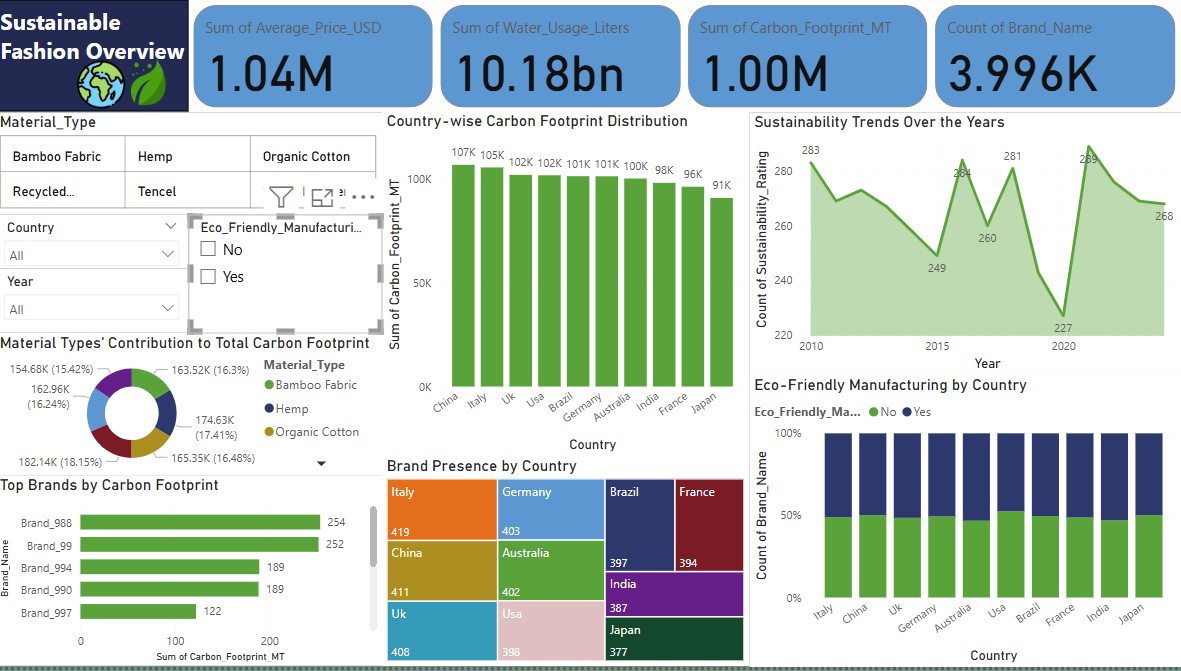

This screenshot's page, from the dashboard's own definition file:
{"tool":"powerbi","page":{"name":"Sustainable Fashion Overview","canvas":[1280,720],"ordinal":0},"visuals":[{"type":"cardVisual","fields":{"Data":["Sum(sustainable_fashion_trends_2024.Average_Price_USD)","Sum(sustainable_fashion_trends_2024.Water_Usage_Liters)","Sum(sustainable_fashion_trends_2024.Carbon_Footprint_MT)","Count(sustainable_fashion_trends_2024.Brand_Name)"]},"box":[208.9,0,1071.9,121.4],"z":0},{"type":"clusteredBarChart","title":"Top Brands by Carbon Footprint","fields":{"Category":["sustainable_fashion_trends_2024.Brand_Name"],"Y":["Sum(sustainable_fashion_trends_2024.Carbon_Footprint_MT)"]},"box":[0,513.3,417.8,205.6],"z":1000},{"type":"lineChart","title":"Sustainability Trends Over the Years","fields":{"Category":["sustainable_fashion_trends_2024.Year"],"Y":["CountNonNull(sustainable_fashion_trends_2024.Sustainability_Rating)"]},"box":[813.7,120.8,466.3,283.2],"z":2000},{"type":"clusteredColumnChart","title":"Country-wise Carbon Footprint Distribution","fields":{"Category":["sustainable_fashion_trends_2024.Country"],"Y":["Sum(sustainable_fashion_trends_2024.Carbon_Footprint_MT)"]},"box":[417.8,119.8,396.7,372.4],"z":3000},{"type":"hundredPercentStackedColumnChart","title":"Eco-Friendly Manufacturing by Country","fields":{"Category":["sustainable_fashion_trends_2024.Country"],"Y":["CountNonNull(sustainable_fashion_trends_2024.Brand_Name)"],"Series":["sustainable_fashion_trends_2024.Eco_Friendly_Manufacturing"]},"box":[813.7,404,466.3,315.3],"z":4000},{"type":"treemap","title":"Brand Presence by Country","fields":{"Group":["sustainable_fashion_trends_2024.Country"],"Values":["CountNonNull(sustainable_fashion_trends_2024.Brand_Name)"]},"box":[417.2,492.7,396.5,226.5],"z":5000},{"type":"donutChart","title":"Material Types'' Contribution to Total Carbon Footprint","fields":{"Category":["sustainable_fashion_trends_2024.Material_Type"],"Y":["Sum(sustainable_fashion_trends_2024.Carbon_Footprint_MT)"]},"box":[0,359.5,417.8,153.8],"z":6000},{"type":"slicer","fields":{"Values":["sustainable_fashion_trends_2024.Year"]},"box":[0,289.8,208.9,69.6],"z":7000},{"type":"slicer","fields":{"Values":["sustainable_fashion_trends_2024.Country"]},"box":[0,231.5,208.9,58.3],"z":8000},{"type":"advancedSlicerVisual","fields":{"Values":["sustainable_fashion_trends_2024.Material_Type"]},"box":[0,121.4,417.8,110.1],"z":9000},{"type":"slicer","fields":{"Values":["sustainable_fashion_trends_2024.Eco_Friendly_Manufacturing"]},"box":[208.9,231.5,208.9,127.9],"z":10000},{"type":"textbox","box":[0,0,208.9,119.8],"z":11000},{"type":"image","box":[134,58.5,62.3,60.4],"z":12000},{"type":"image","box":[83.1,60.4,64.2,62.3],"z":13000}]}

Visuals, with their boxes in screenshot pixels (x1, y1, x2, y2), scaled from the page's 1280x720 canvas onto the 1181x671 screenshot:
cardVisual - Sum(sustainable_fashion_trends_2024.Average_Price_USD) x Sum(sustainable_fashion_trends_2024.Water_Usage_Liters): box(193, 0, 1180, 113)
"Top Brands by Carbon Footprint" clusteredBarChart: box(0, 478, 385, 670)
"Sustainability Trends Over the Years" lineChart: box(751, 113, 1180, 377)
"Country-wise Carbon Footprint Distribution" clusteredColumnChart: box(385, 112, 752, 459)
"Eco-Friendly Manufacturing by Country" hundredPercentStackedColumnChart: box(751, 377, 1180, 670)
"Brand Presence by Country" treemap: box(385, 459, 751, 670)
"Material Types'' Contribution to Total Carbon Footprint" donutChart: box(0, 335, 385, 478)
slicer - sustainable_fashion_trends_2024.Year: box(0, 270, 193, 335)
slicer - sustainable_fashion_trends_2024.Country: box(0, 216, 193, 270)
advancedSlicerVisual - sustainable_fashion_trends_2024.Material_Type: box(0, 113, 385, 216)
slicer - sustainable_fashion_trends_2024.Eco_Friendly_Manufacturing: box(193, 216, 385, 335)
textbox: box(0, 0, 193, 112)
image: box(124, 55, 181, 111)
image: box(77, 56, 136, 114)
